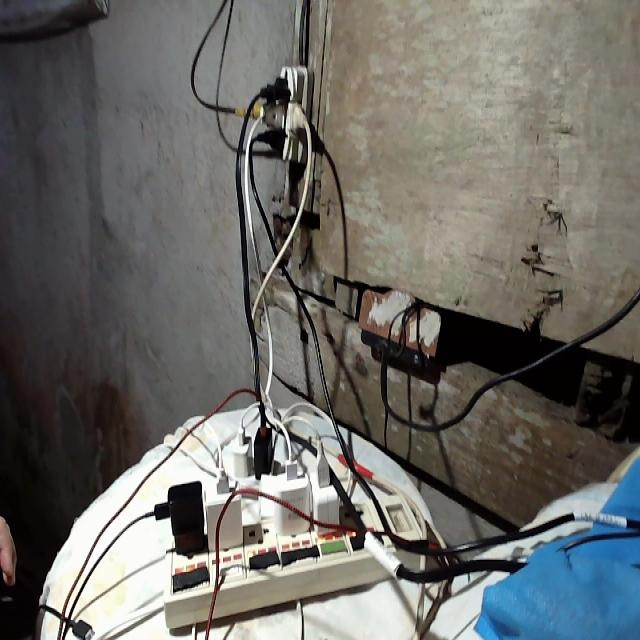-: (247, 61, 315, 166)
